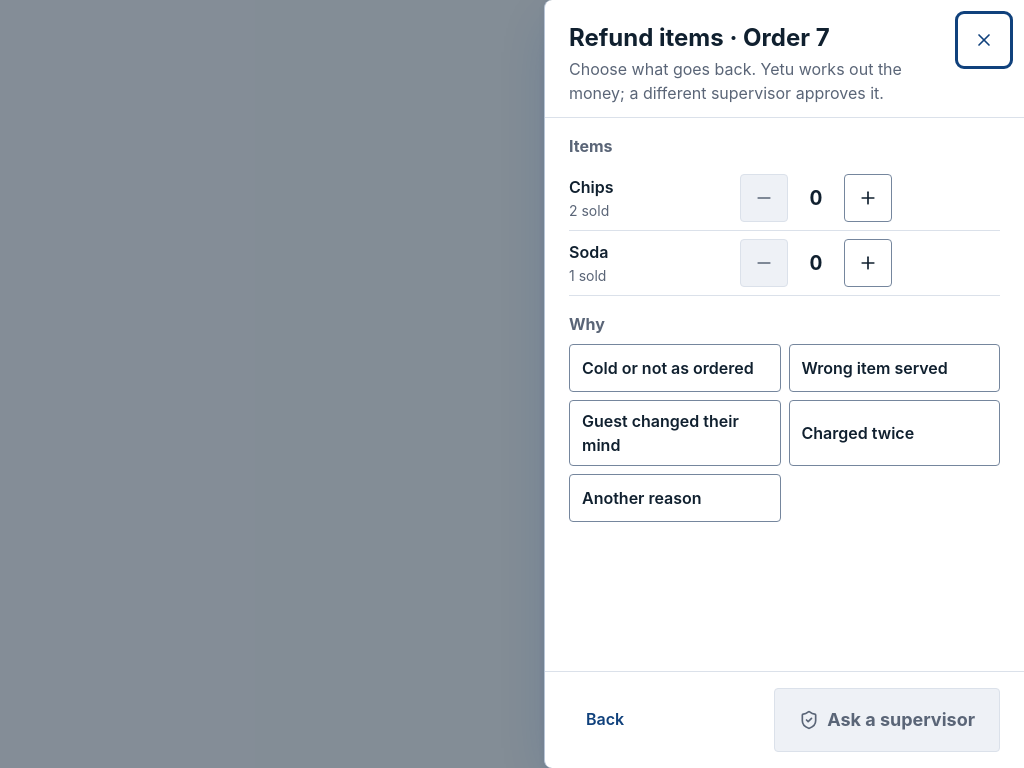
Test case: Refund items: choosing what goes back › takes a reason of the cashier's own
Click the button named "One more Chips" at point(868, 198), box 844,174 -> 892,222
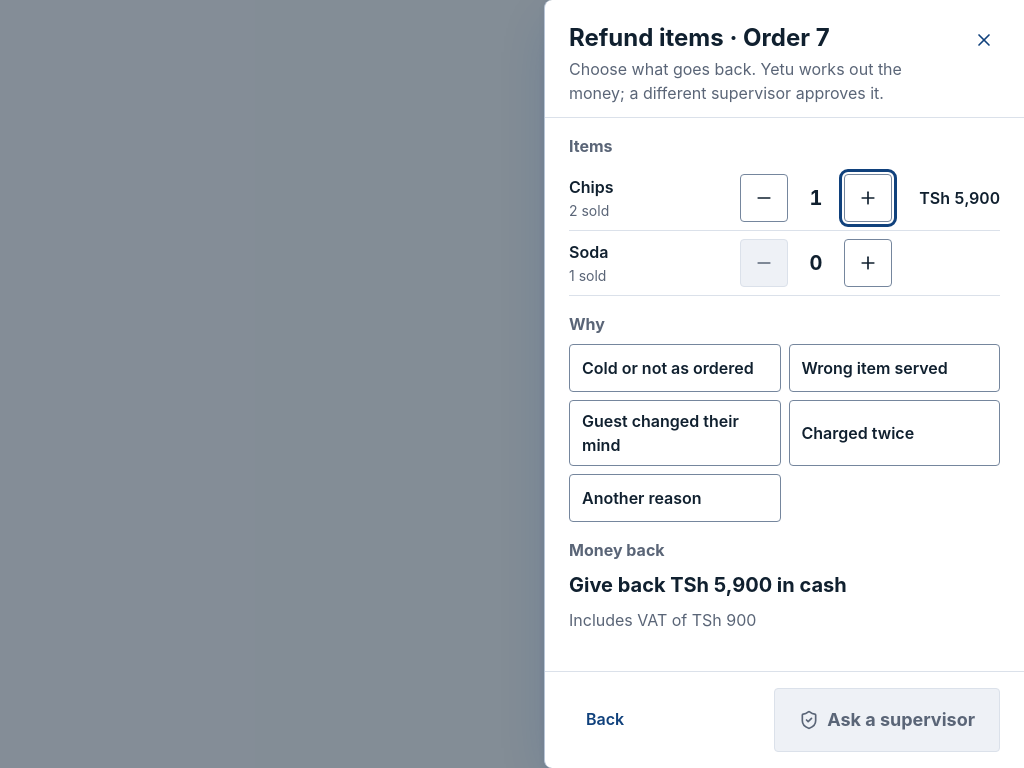
Click the radio button with test id "refund-reason-other" at point(675, 498), box 569,474 -> 780,522
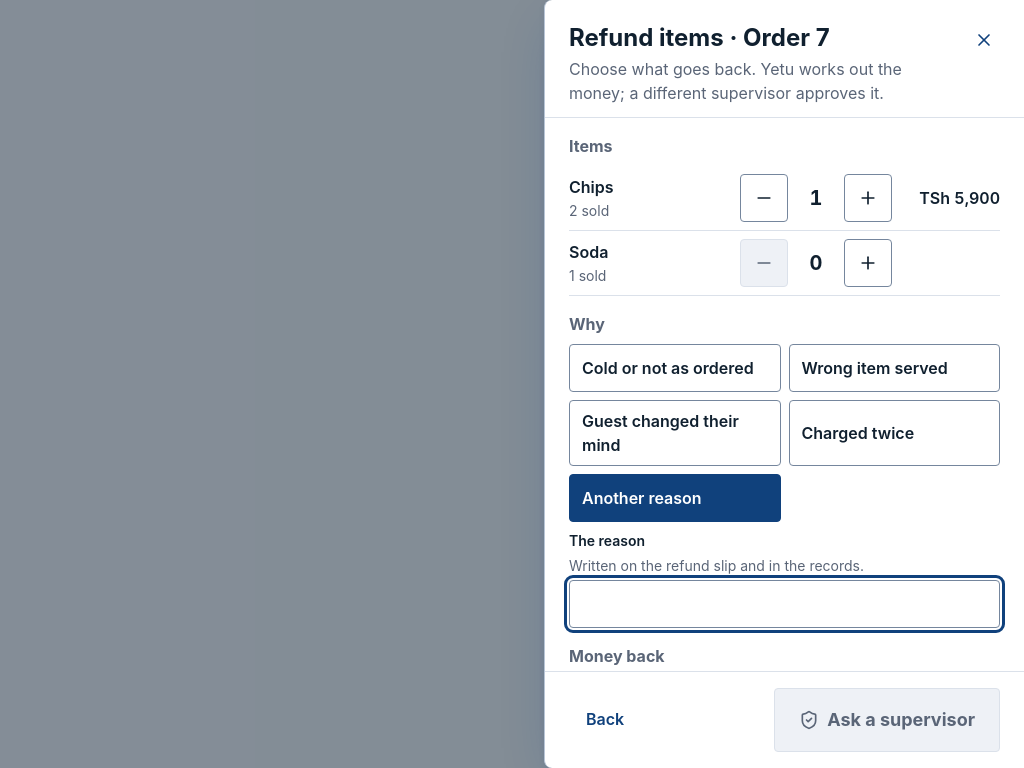
Expected: the button with test id "refund-ask" is disabled, 774,688 -> 1000,752
Type "Found a hair" into the field with test id "refund-reason-text" at point(784, 604), box 569,580 -> 1000,628
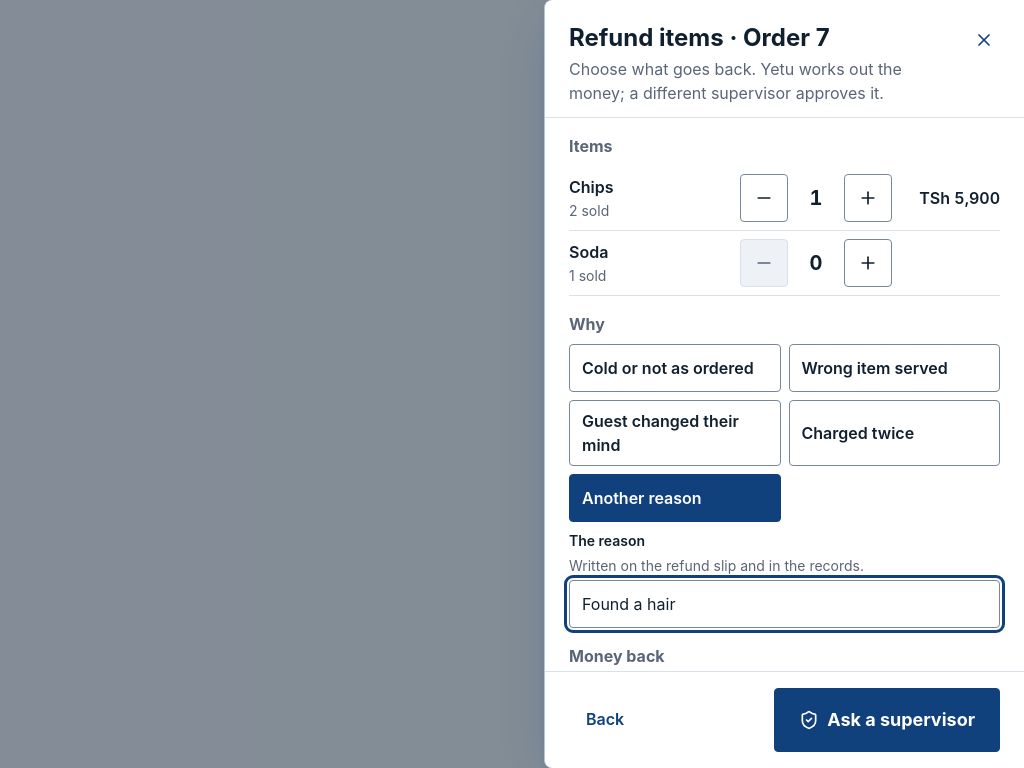
Now the button with test id "refund-ask" is enabled, box 774,688 -> 1000,752
